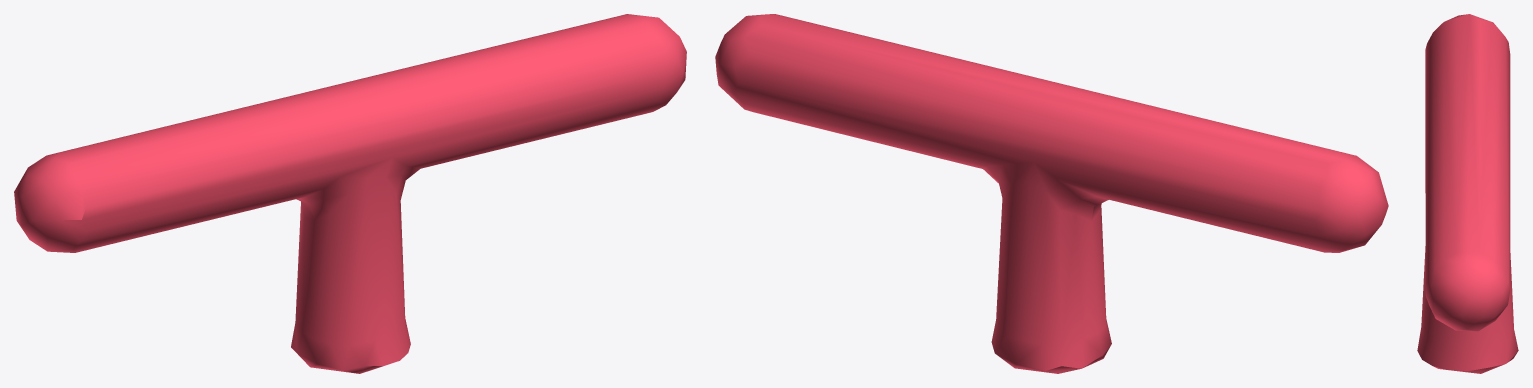
File: sweeper.glb
3 renders of one model, left to right at view 1: azimuth 30°, elevation 25°; view 2: azimuth 150°, elevation 25°; view 3: azimuth 270°, elevation 25°, orthographic. The views are drawn at different scales.
Parts seen in each view (by area): view 1: sweeper; view 2: sweeper; view 3: sweeper.
Boxes of the visible parts, bbox=[...] form: sweeper: bbox=[14, 14, 686, 373]; sweeper: bbox=[715, 14, 1388, 373]; sweeper: bbox=[1417, 14, 1518, 373].
Bounding box in the file's own units: 8.17 × 3.14 × 1.3.
